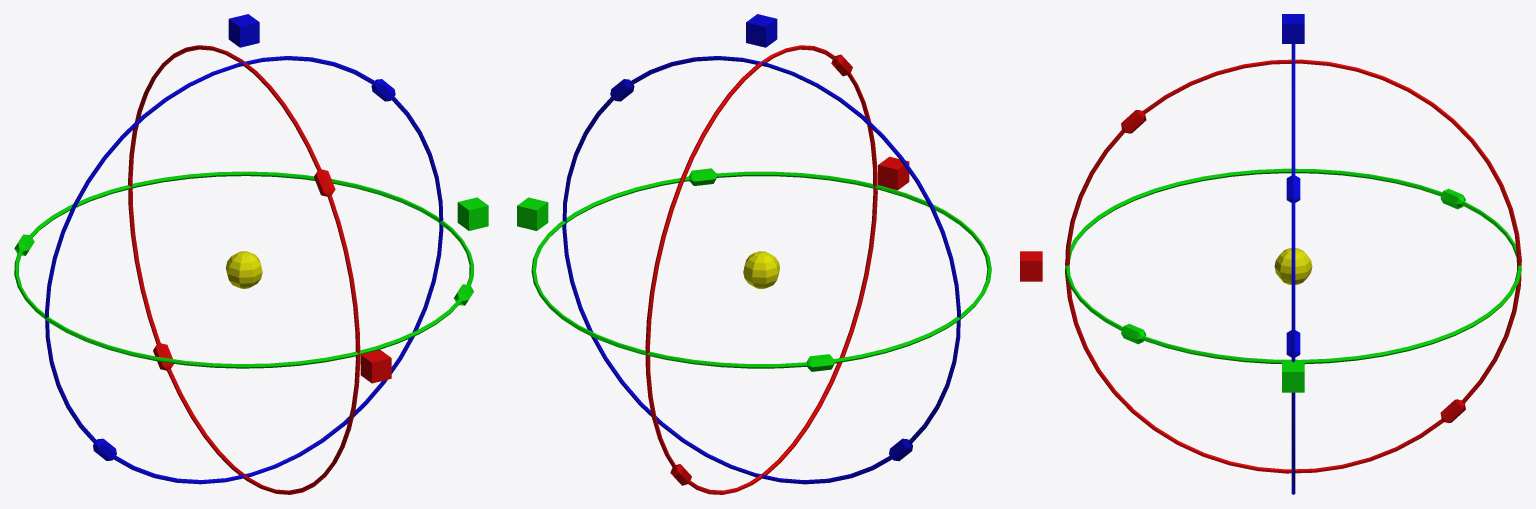
Rendered from Coordinate_Rotate.fbx.
The picture shows the model from 3 angles, left to right: view 1: azimuth 30°, elevation 25°; view 2: azimuth 150°, elevation 25°; view 3: azimuth 270°, elevation 25°; orthographic projection.
Parts seen in each view (by area): view 1: Coordinate_Rotate; view 2: Coordinate_Rotate; view 3: Coordinate_Rotate.
Part boxes in pixels (box(x1,y1,x2,y2)): Coordinate_Rotate: box(14, 14, 488, 494); Coordinate_Rotate: box(517, 14, 991, 494); Coordinate_Rotate: box(1020, 14, 1521, 494).
Bounding box in the file's own units: 2.22 × 2.22 × 2.22.
